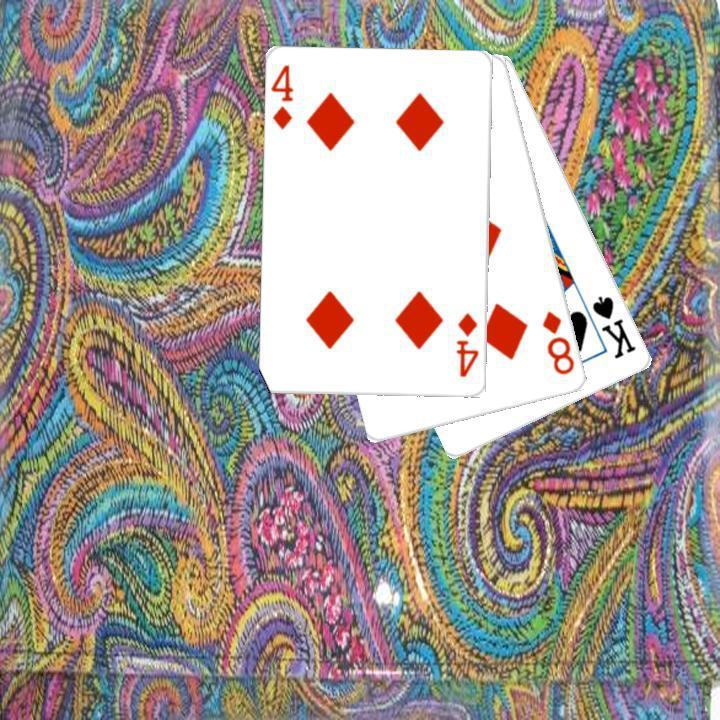4: (452, 309, 480, 380), (268, 61, 296, 132)
8: (538, 306, 577, 377)
K: (588, 291, 639, 361)
